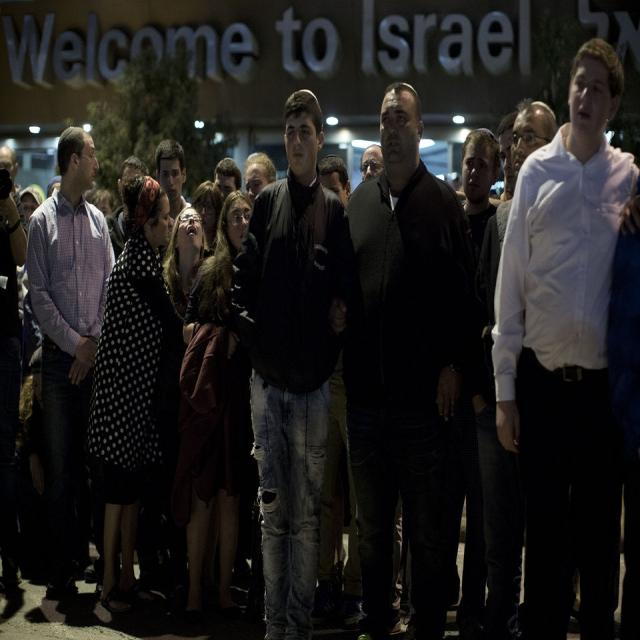body: (487, 25, 639, 639), (342, 77, 480, 639), (233, 80, 354, 639), (26, 122, 127, 608), (481, 111, 561, 640), (86, 167, 174, 623), (491, 101, 558, 639), (180, 185, 255, 347), (453, 125, 504, 274), (162, 203, 213, 318), (0, 143, 25, 363), (103, 153, 153, 263), (0, 156, 27, 326), (154, 140, 192, 254), (313, 151, 353, 214), (190, 180, 224, 251), (243, 150, 278, 209), (210, 155, 244, 205), (18, 182, 46, 228), (359, 143, 386, 185), (91, 188, 116, 218)
